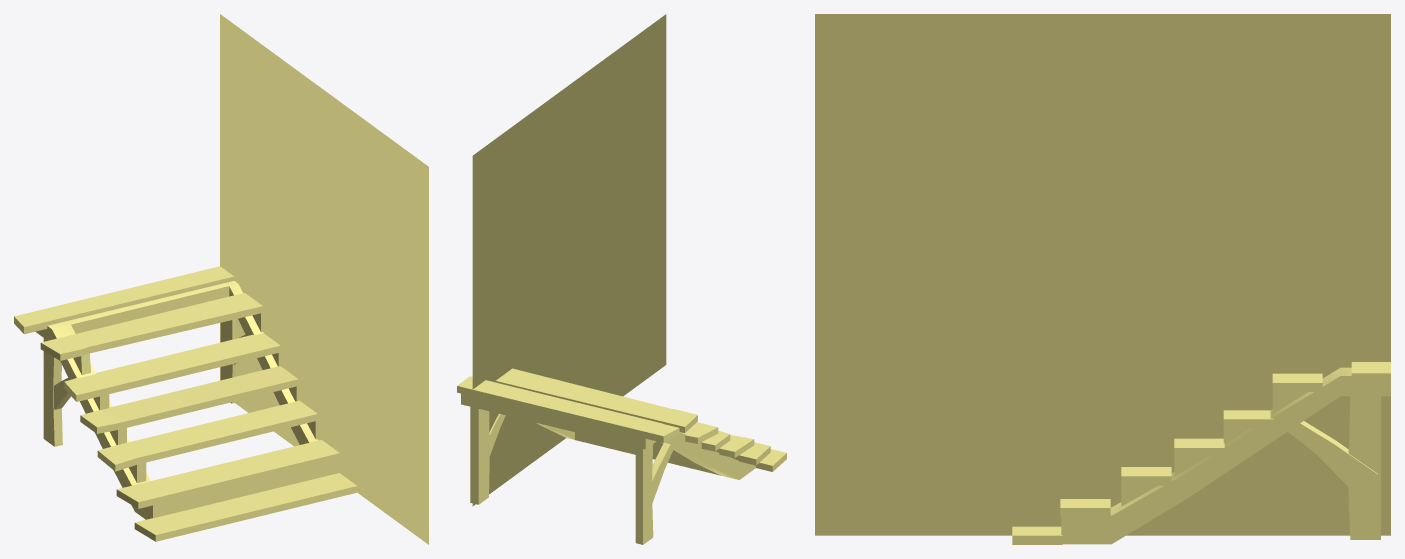
File: F_Type1_LOD_Ponton_Stairs_LD.fbx
3 views of the same model, side by side, from view 1: azimuth 30°, elevation 25°; view 2: azimuth 150°, elevation 25°; view 3: azimuth 270°, elevation 25° (orthographic). The views are drawn at different scales.
Parts seen in each view (by area): view 1: F_Type1_Base_Variant002; view 2: F_Type1_Base_Variant002; view 3: F_Type1_Base_Variant002.
Boxes of the visible parts, bbox=[...] form: F_Type1_Base_Variant002: bbox=[14, 14, 428, 544]; F_Type1_Base_Variant002: bbox=[457, 14, 786, 544]; F_Type1_Base_Variant002: bbox=[815, 14, 1390, 544].
Bounding box in the file's own units: 188 × 300 × 300.
